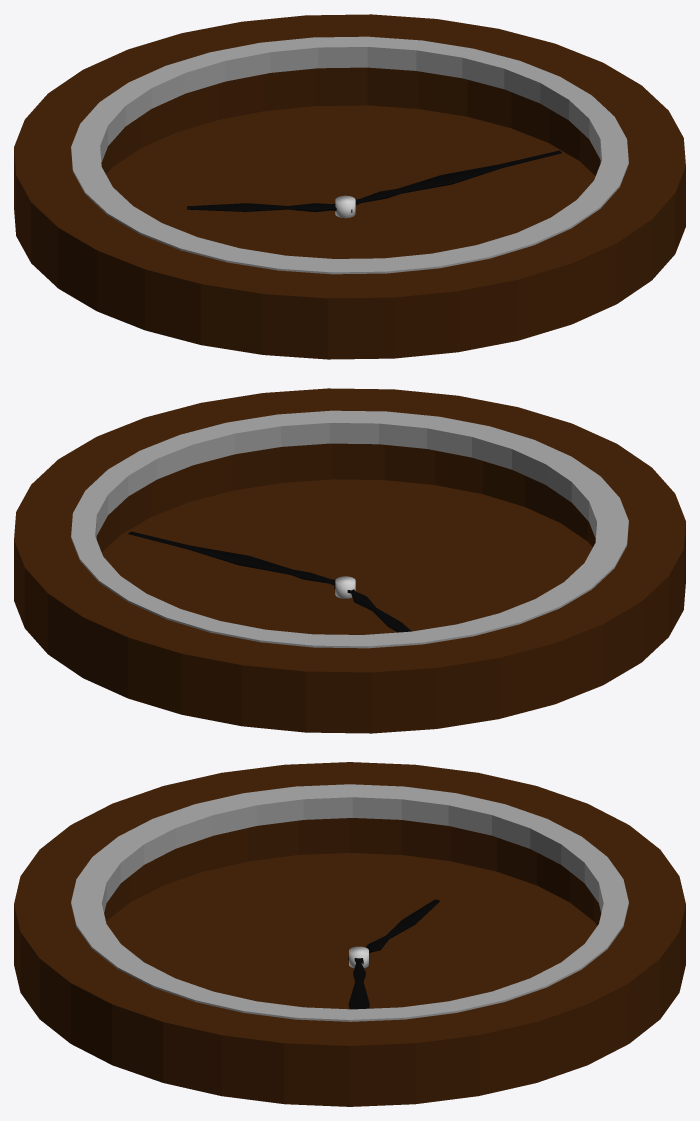
File: Clock.fbx
3 views of the same model, one above another, from view 1: azimuth 30°, elevation 25°; view 2: azimuth 150°, elevation 25°; view 3: azimuth 270°, elevation 25° (orthographic).
Parts seen in each view (by area): view 1: Circle, metal cover, Cube, Cube.001; view 2: Circle, metal cover, Cube, Cube.001; view 3: Circle, metal cover, Cube.001, Cube.
Boxes of the visible parts, box(x1,y1,x2,y2) form: Circle: box(14, 14, 685, 359); metal cover: box(71, 36, 628, 274); Cube: box(355, 150, 561, 205); Cube.001: box(187, 203, 352, 212); Circle: box(14, 388, 685, 733); metal cover: box(71, 410, 628, 648); Cube: box(128, 531, 335, 585); Cube.001: box(334, 586, 411, 632); Circle: box(14, 762, 685, 1106); metal cover: box(71, 784, 628, 1021); Cube.001: box(348, 899, 439, 964); Cube: box(348, 958, 369, 1009).
Size of the model in its own units: 200 by 21.98 by 200.
